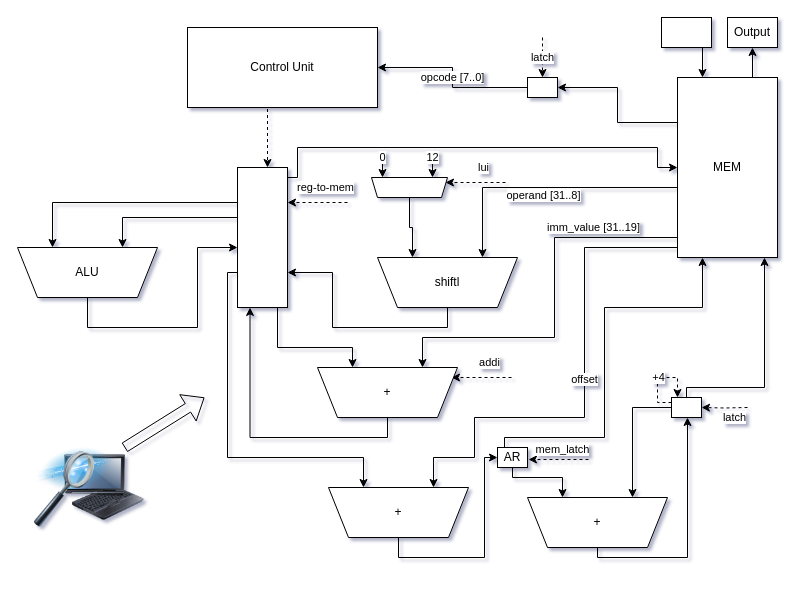
This 801x589 diagram has some shape labels left out. The shapes that lost their labels are listed below. From the top down, each one's centre as x and y in pixels, then its label:
At [686,32]: "Input".
At [542,87]: "IR".
At [409,187]: "MUX".
At [262,237]: "regs".
At [686,407]: "PC".
